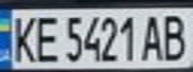1: (118, 12, 142, 62)
2: (100, 12, 121, 63)
4: (81, 12, 103, 63)
5: (60, 11, 84, 63)
A: (139, 11, 169, 62)
B: (157, 11, 190, 62)
E: (30, 11, 63, 64)
K: (6, 11, 39, 64)
